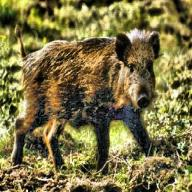boar: (7, 19, 192, 190)
